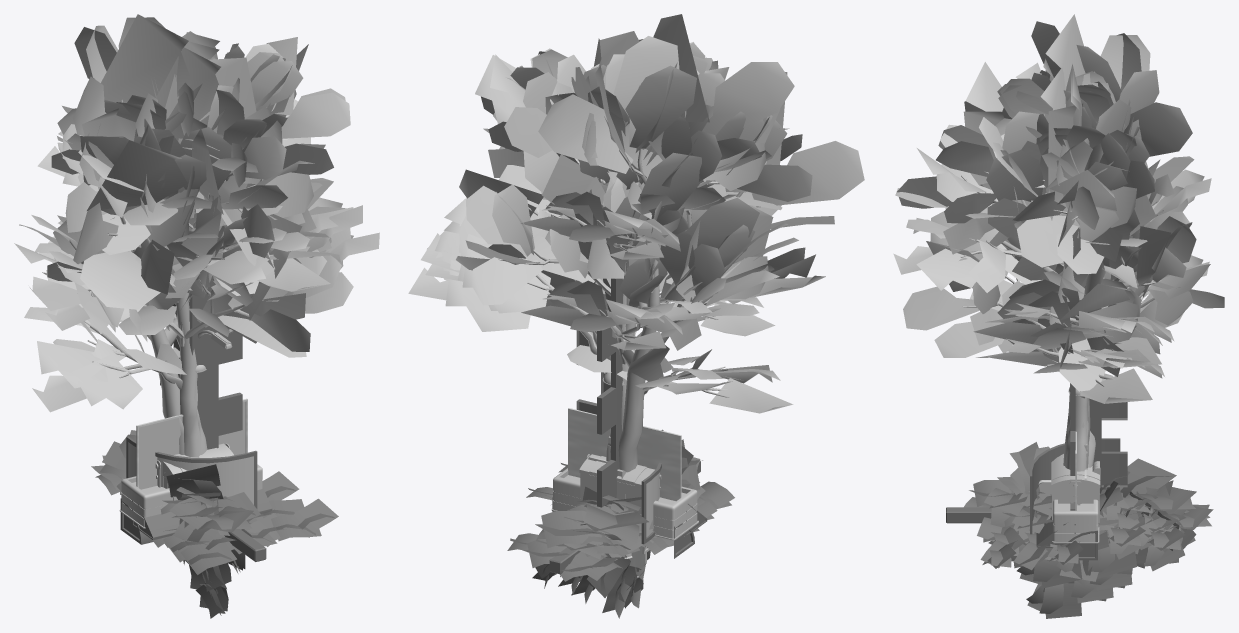
File: Props.fbx
3 views of the same model, side by side, from view 1: azimuth 30°, elevation 25°; view 2: azimuth 150°, elevation 25°; view 3: azimuth 270°, elevation 25° (orthographic). The views are drawn at different scales.
Parts seen in each view (by area): view 1: SM_Tree2, SM_Tree3, SM_Tree1, SM_Ivy3, SM_Ivy2, SM_WallCorner, SM_Sign6, SM_Sign7, SM_FlowerBed, SM_WindowRoof2, SM_Ivy5, SM_Trash (+3 smaller); view 2: SM_Tree3, SM_Tree2, SM_Tree1, SM_Ivy3, SM_Sign6, SM_WallCorner, SM_Ivy2, SM_FlowerBed, SM_Ivy1, SM_Trash, SM_Sign7, SM_Ivy5; view 3: SM_Tree2, SM_Tree1, SM_Tree3, SM_Ivy3, SM_Ivy1, SM_WallCorner, SM_Ivy2, SM_Trash, SM_FlowerBed, SM_Ivy4, SM_Sign7, SM_Straight (+2 smaller).
Boxes of the visible parts, box(x1,y1,x2,y2) form: SM_Tree2: box(24, 37, 379, 454); SM_Tree3: box(14, 14, 353, 454); SM_Tree1: box(35, 32, 362, 456); SM_Ivy3: box(99, 430, 260, 618); SM_Ivy2: box(91, 455, 338, 574); SM_WallCorner: box(160, 276, 242, 449); SM_Sign6: box(136, 398, 247, 489); SM_Sign7: box(126, 436, 257, 508); SM_FlowerBed: box(119, 464, 262, 528); SM_WindowRoof2: box(132, 487, 272, 540); SM_Ivy5: box(152, 471, 299, 547); SM_Trash: box(155, 443, 233, 500); SM_Tree3: box(425, 14, 864, 472); SM_Tree2: box(408, 39, 812, 461); SM_Tree1: box(421, 31, 775, 444); SM_Ivy3: box(535, 429, 702, 618); SM_Sign6: box(568, 408, 681, 501); SM_WallCorner: box(576, 278, 623, 507); SM_Ivy2: box(507, 463, 734, 581); SM_FlowerBed: box(551, 468, 698, 540); SM_Ivy1: box(523, 520, 641, 603); SM_Trash: box(579, 454, 661, 514); SM_Sign7: box(641, 462, 661, 544); SM_Ivy5: box(526, 487, 699, 554); SM_Tree2: box(897, 58, 1164, 471); SM_Tree1: box(893, 64, 1224, 465); SM_Tree3: box(964, 14, 1192, 467); SM_Ivy3: box(969, 442, 1196, 618); SM_Ivy1: box(1002, 492, 1213, 603); SM_WallCorner: box(1070, 308, 1127, 510); SM_Ivy2: box(964, 480, 1210, 568); SM_Trash: box(1051, 454, 1100, 525); SM_FlowerBed: box(1052, 499, 1099, 543); SM_Ivy4: box(1013, 495, 1157, 570); SM_Sign7: box(1030, 438, 1120, 534); SM_Straight: box(946, 507, 1204, 523).
Size of the model in its own units: 896 by 1463 by 766.
